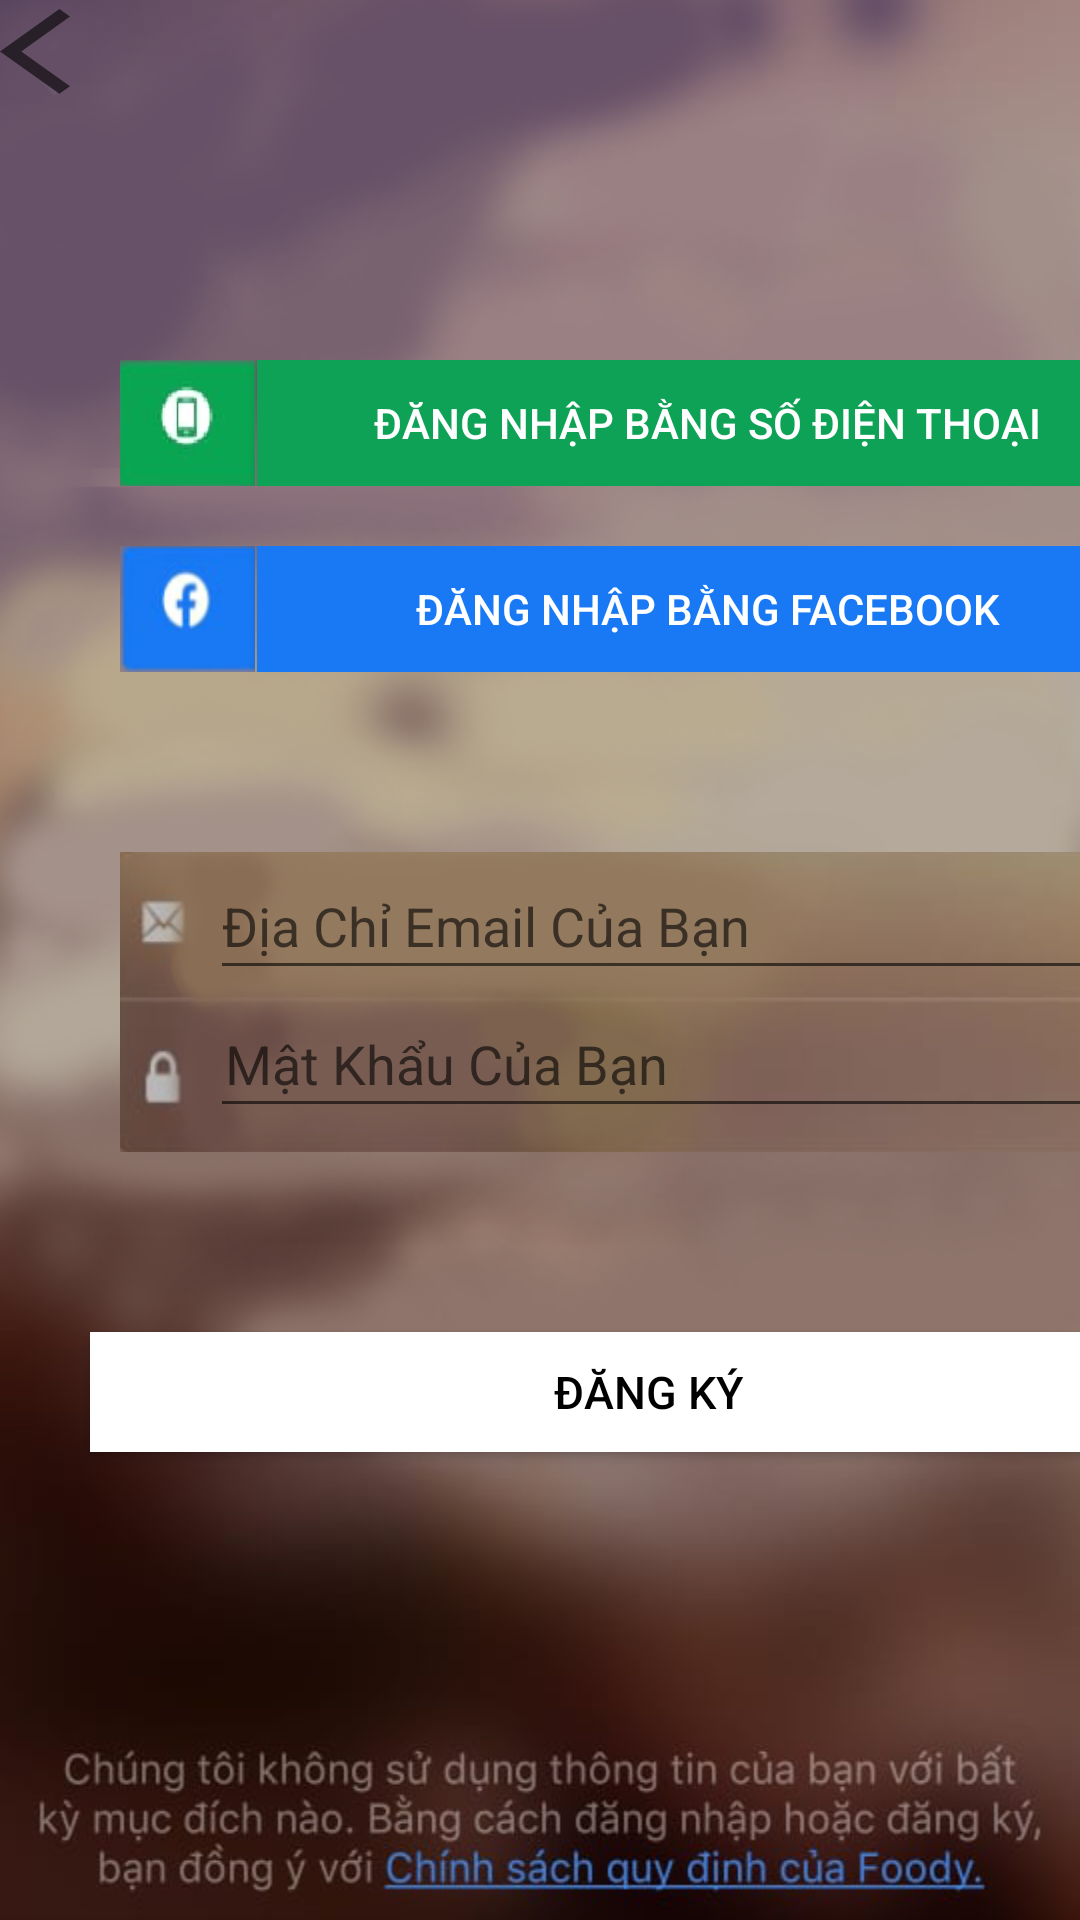

Where icons sit on this 1080px×1920px app screen, as (x1, y1, x2, y2):
back: (0, 9, 70, 94)
